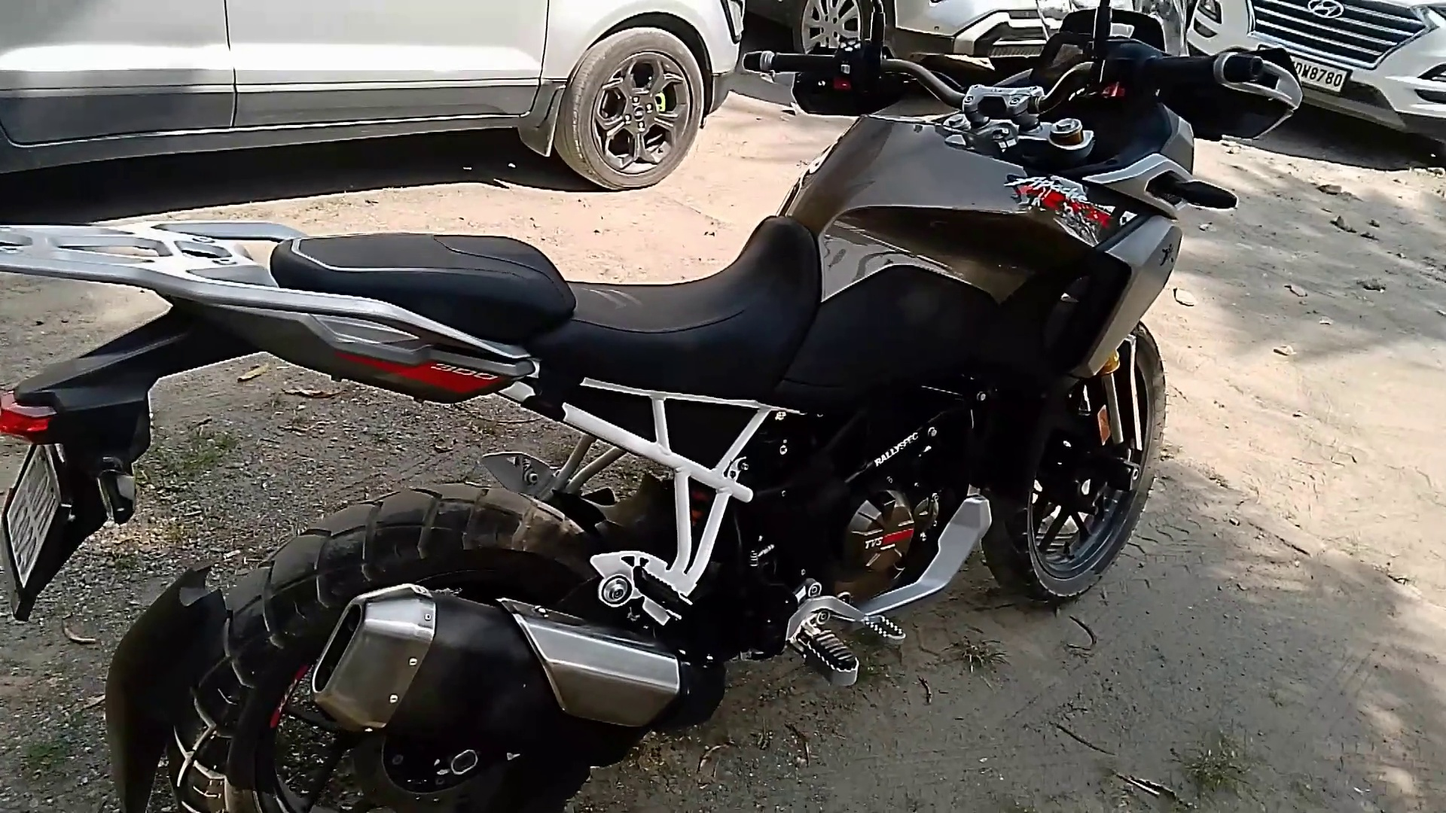bike-engine: (832, 490, 939, 605)
bike-engine-level: (837, 591, 852, 605)
